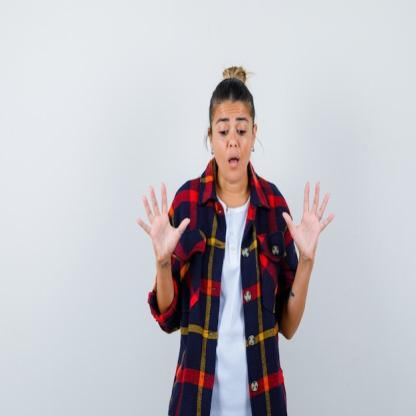stop: (134, 180, 190, 266), (278, 177, 336, 260)
